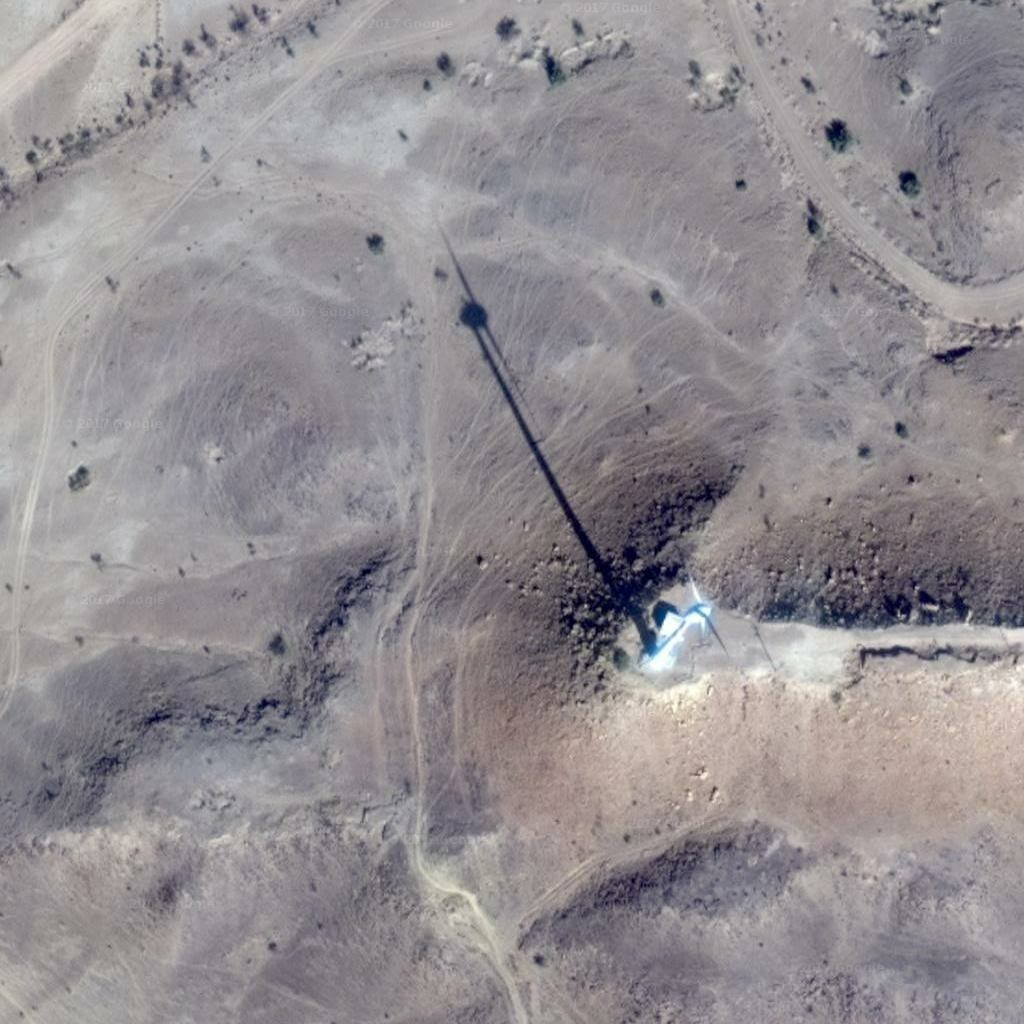Windmill: (436, 227, 638, 602)
